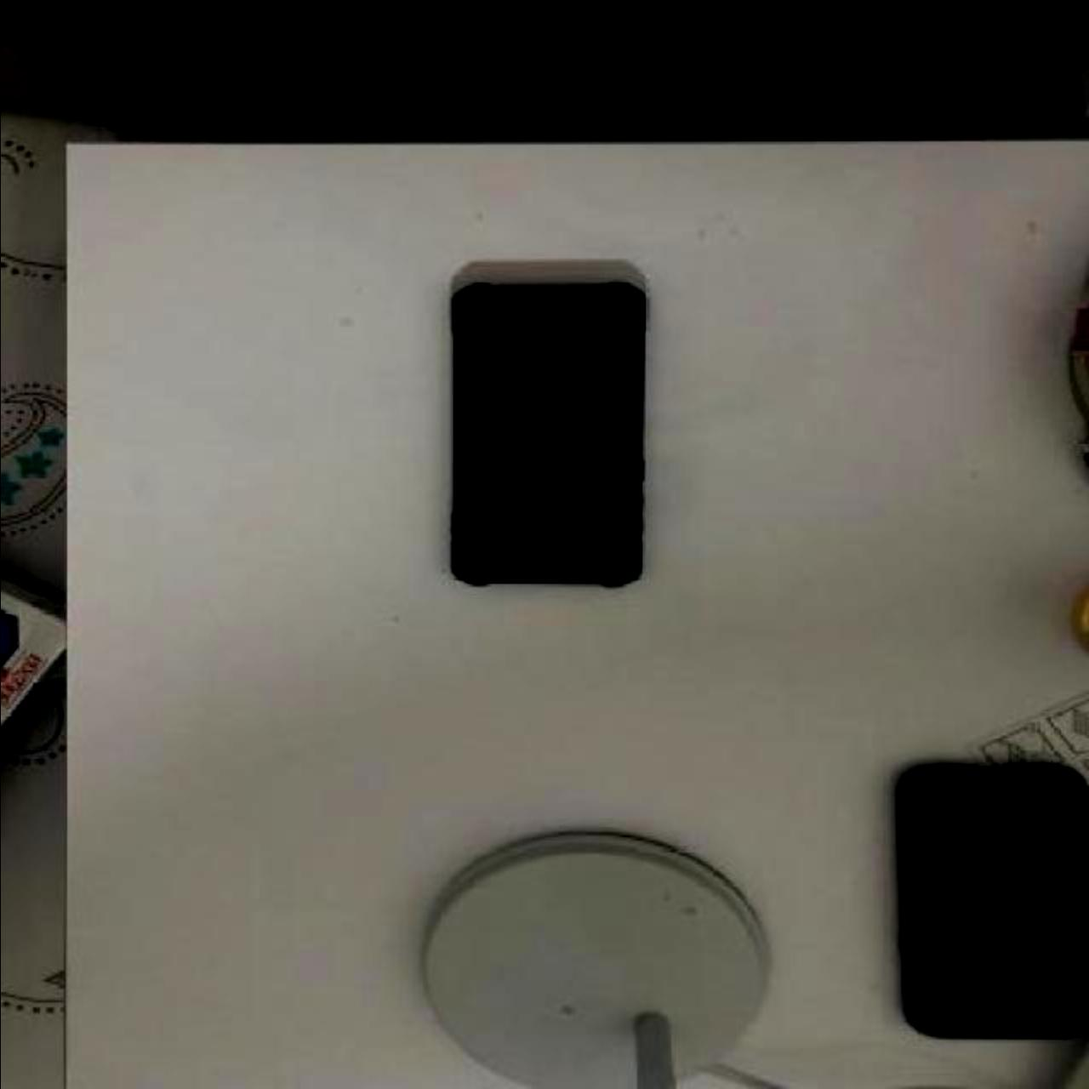phone: (448, 280, 652, 584), (894, 763, 1088, 1035)
